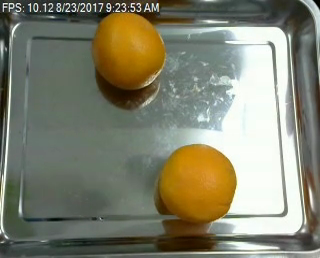Orange: (157, 143, 238, 221), (90, 12, 165, 90)
